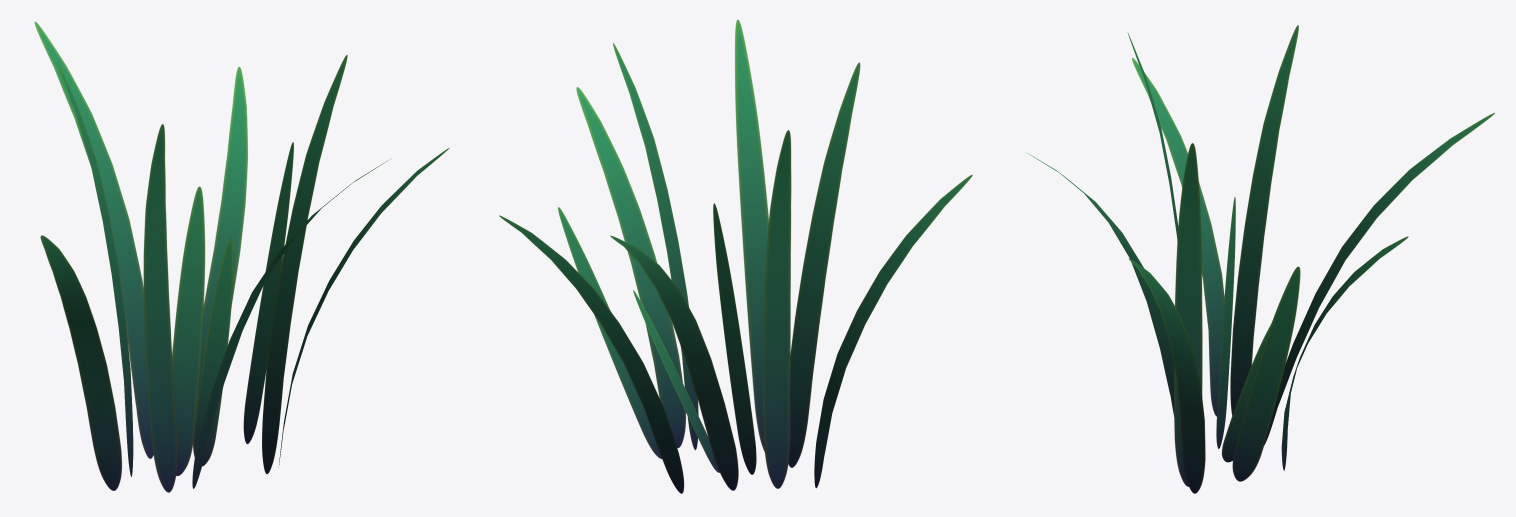
File: grass-model.glb
3 renders of one model, left to right at view 1: azimuth 30°, elevation 25°; view 2: azimuth 150°, elevation 25°; view 3: azimuth 270°, elevation 25°, orthographic. The views are drawn at different scales.
Parts seen in each view (by area): view 1: Grass:Grass_low9; view 2: Grass:Grass_low9; view 3: Grass:Grass_low9.
Part boxes in pixels (left/top/right/bottom): Grass:Grass_low9: left=34, top=21, right=449, bottom=492; Grass:Grass_low9: left=499, top=20, right=972, bottom=493; Grass:Grass_low9: left=1026, top=25, right=1494, bottom=493.
Bounding box in the file's own units: 1.03 × 0.9502 × 1.04.
1 material, 1 textured.
